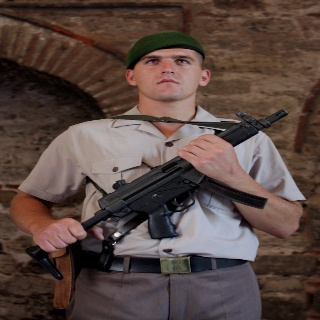rifle: (25, 107, 287, 279)
